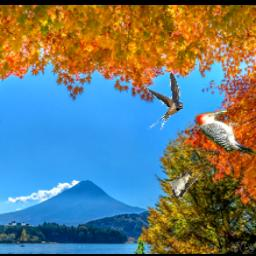Swallow: (138, 71, 183, 130), (170, 169, 202, 200)
Woodpecker: (195, 109, 256, 157)
